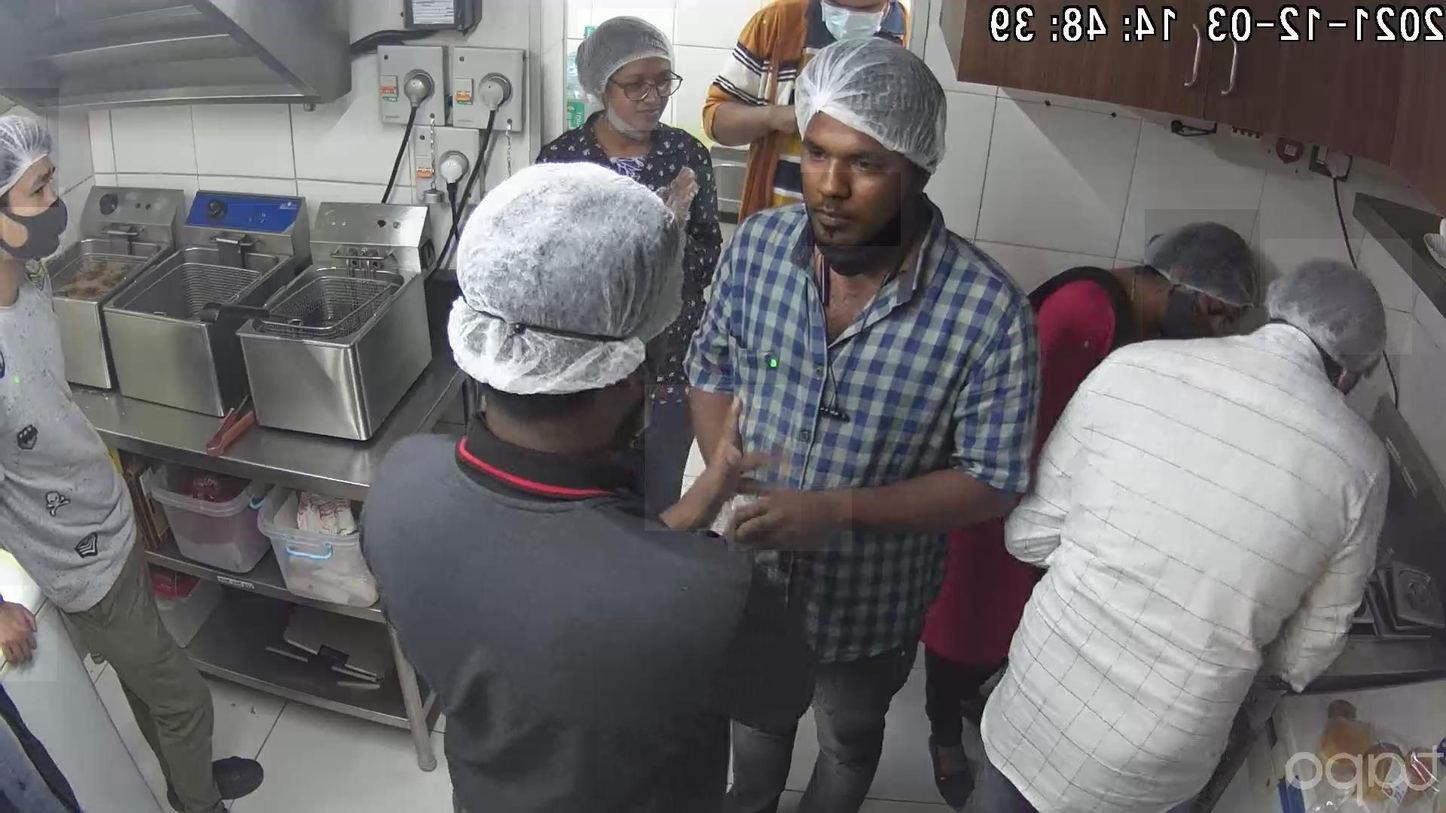apron: (656, 166, 721, 223)
gloves: (450, 151, 697, 385), (789, 38, 973, 172), (1266, 239, 1413, 355), (1146, 209, 1261, 308), (578, 9, 678, 99), (1, 89, 59, 208)
mask: (1143, 269, 1240, 349), (802, 0, 909, 47), (3, 187, 65, 260)
no_apron: (645, 385, 802, 531), (729, 485, 852, 551), (0, 586, 57, 681)
no_hairnet: (801, 124, 901, 246), (609, 58, 676, 130)
